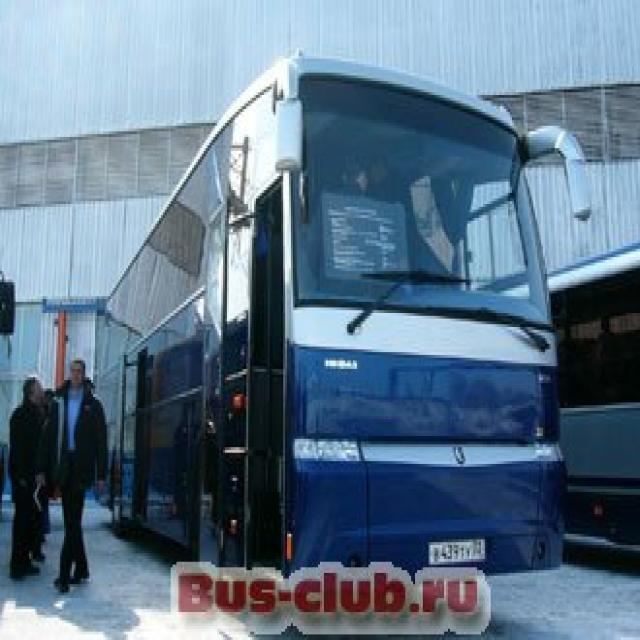bus: (93, 51, 597, 591)
